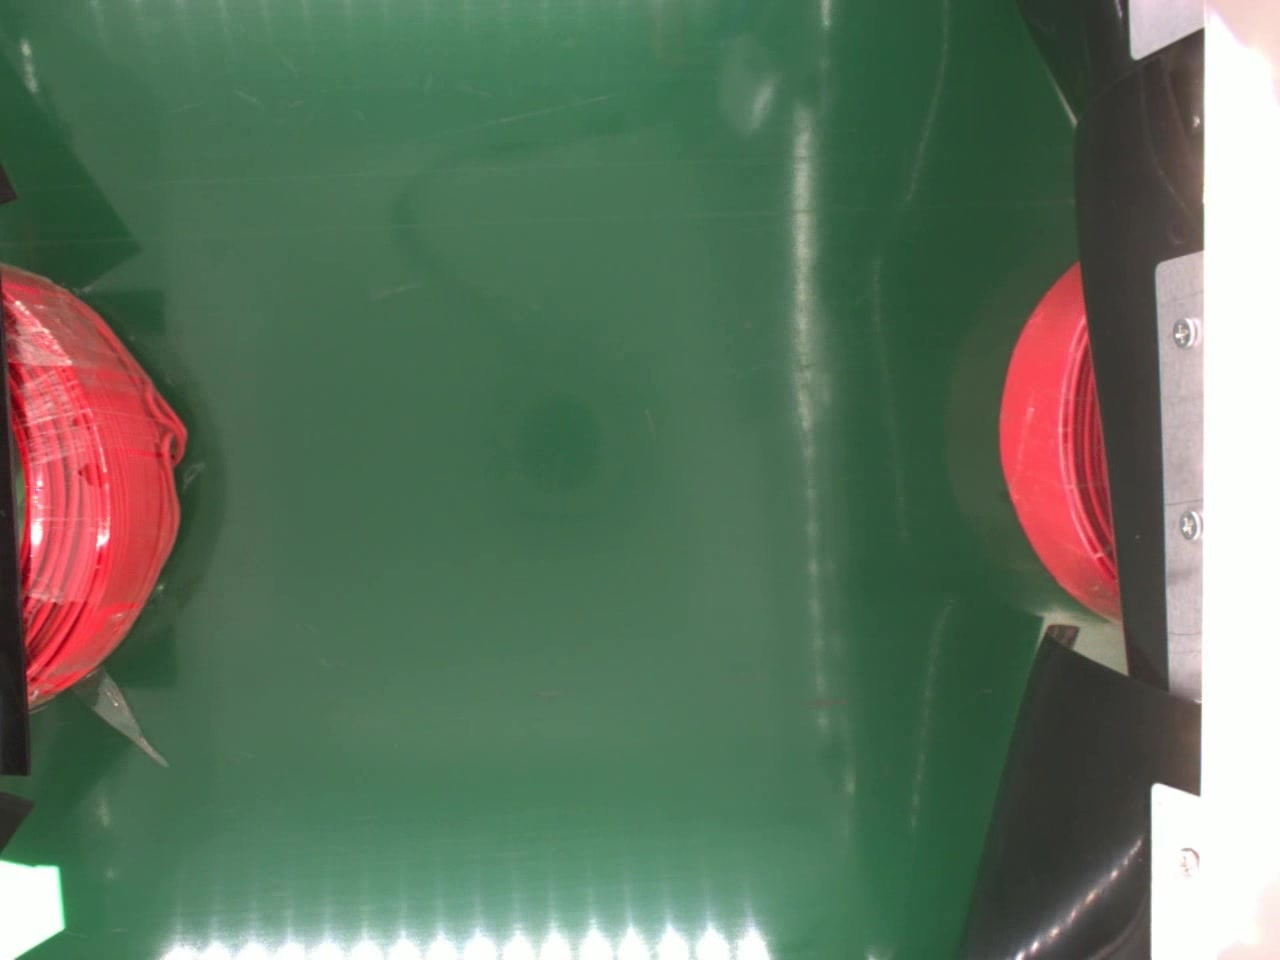red: (0, 256, 178, 708), (995, 254, 1125, 621)
